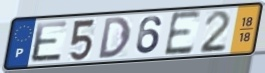2: (199, 9, 232, 55)
5: (67, 17, 99, 62)
6: (135, 15, 163, 56)
D: (97, 16, 132, 61)
E: (162, 9, 203, 59), (30, 19, 70, 64)
